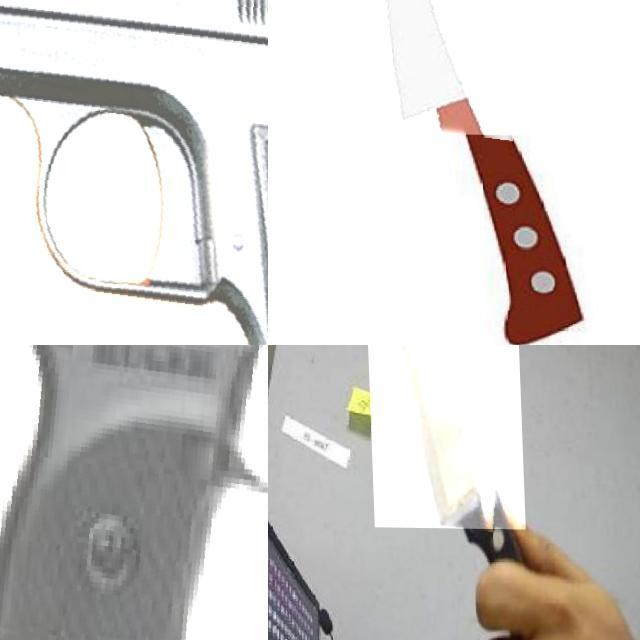-: (289, 0, 544, 196), (360, 345, 521, 530)
gun-knife-thesis - v11 Yolov5 augmented: (0, 0, 268, 345), (0, 345, 268, 640)
